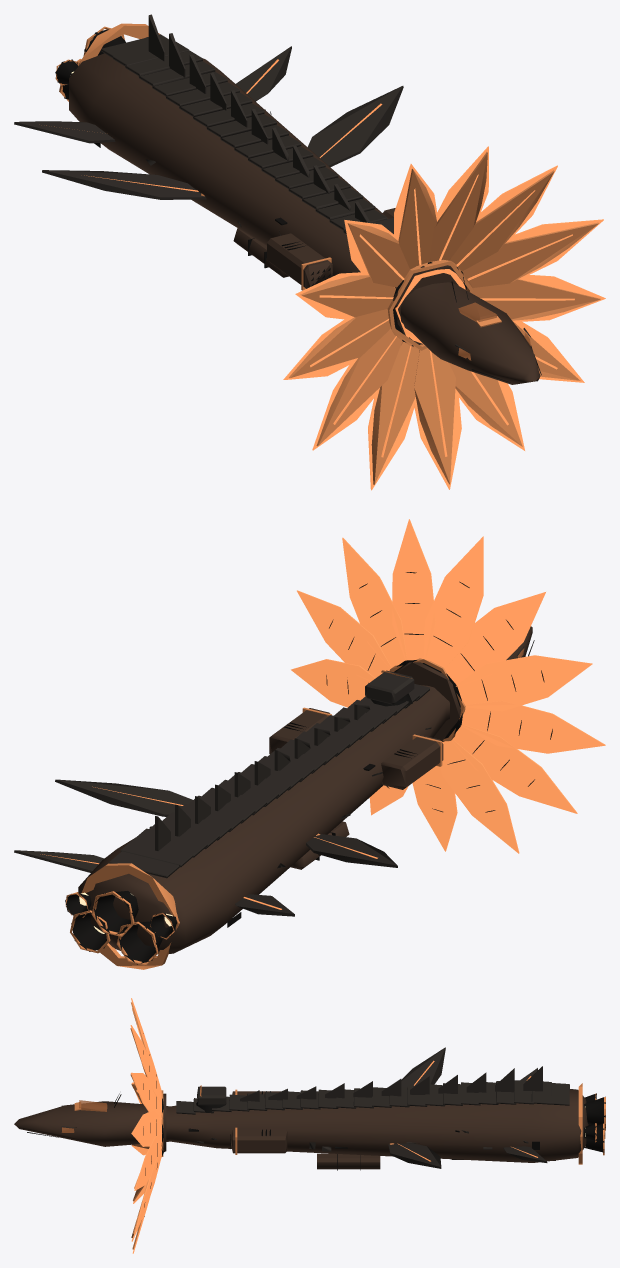
File: kryza-heliotropi-hawk-3-lod1.glb
The picture shows the model from 3 angles, top to bottom: view 1: azimuth 30°, elevation 25°; view 2: azimuth 150°, elevation 25°; view 3: azimuth 270°, elevation 25°; orthographic projection. The views are drawn at different scales.
Size of the model in its own units: 23.02 by 20.62 by 47.94.
